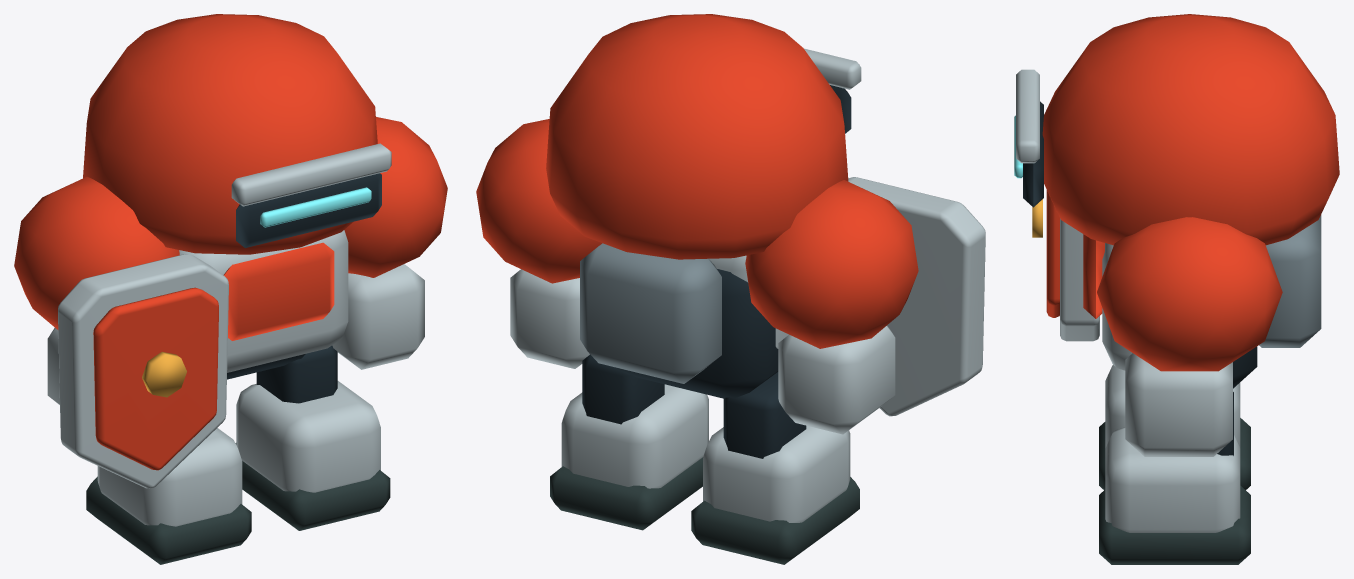
File: enemy-trooper.glb
3 renders of one model, left to right at view 1: azimuth 30°, elevation 25°; view 2: azimuth 150°, elevation 25°; view 3: azimuth 270°, elevation 25°, orthographic.
Parts seen in each view (by area): view 1: enemy-trooper_TEAM_CORAL, enemy-trooper_ARMOR_METAL_VERTEX_COLOR, enemy-trooper_TOY_BODY_VERTEX_COLOR; view 2: enemy-trooper_TEAM_CORAL, enemy-trooper_ARMOR_METAL_VERTEX_COLOR, enemy-trooper_TOY_BODY_VERTEX_COLOR; view 3: enemy-trooper_TEAM_CORAL, enemy-trooper_ARMOR_METAL_VERTEX_COLOR, enemy-trooper_TOY_BODY_VERTEX_COLOR.
Part boxes in pixels (<box>): enemy-trooper_TEAM_CORAL: <box>14,14,447,470</box>; enemy-trooper_ARMOR_METAL_VERTEX_COLOR: <box>47,143,424,526</box>; enemy-trooper_TOY_BODY_VERTEX_COLOR: <box>86,173,390,564</box>; enemy-trooper_TEAM_CORAL: <box>476,14,918,348</box>; enemy-trooper_ARMOR_METAL_VERTEX_COLOR: <box>510,48,985,522</box>; enemy-trooper_TOY_BODY_VERTEX_COLOR: <box>550,85,859,564</box>; enemy-trooper_TEAM_CORAL: <box>1042,14,1339,371</box>; enemy-trooper_ARMOR_METAL_VERTEX_COLOR: <box>1016,69,1321,532</box>; enemy-trooper_TOY_BODY_VERTEX_COLOR: <box>1014,101,1257,564</box>.
Bounding box in the file's own units: 1.16 × 1.25 × 0.7705.
